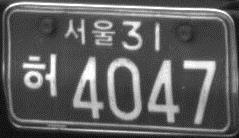0: (105, 58, 145, 122)
1: (149, 21, 164, 53)
3: (120, 19, 143, 52)
4: (70, 53, 105, 119), (147, 58, 181, 125)
7: (181, 58, 218, 128)
서울_O: (62, 17, 116, 47)
허: (20, 51, 58, 98)
